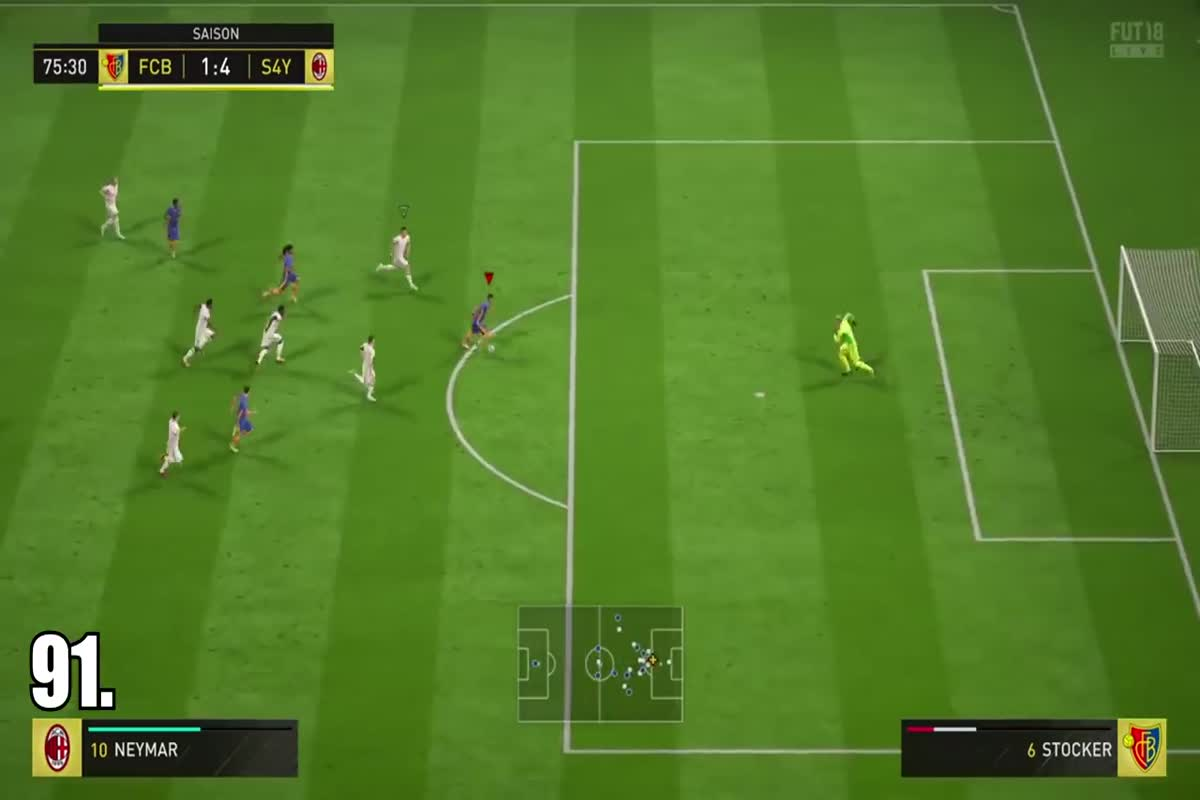ball: (479, 340, 504, 359)
